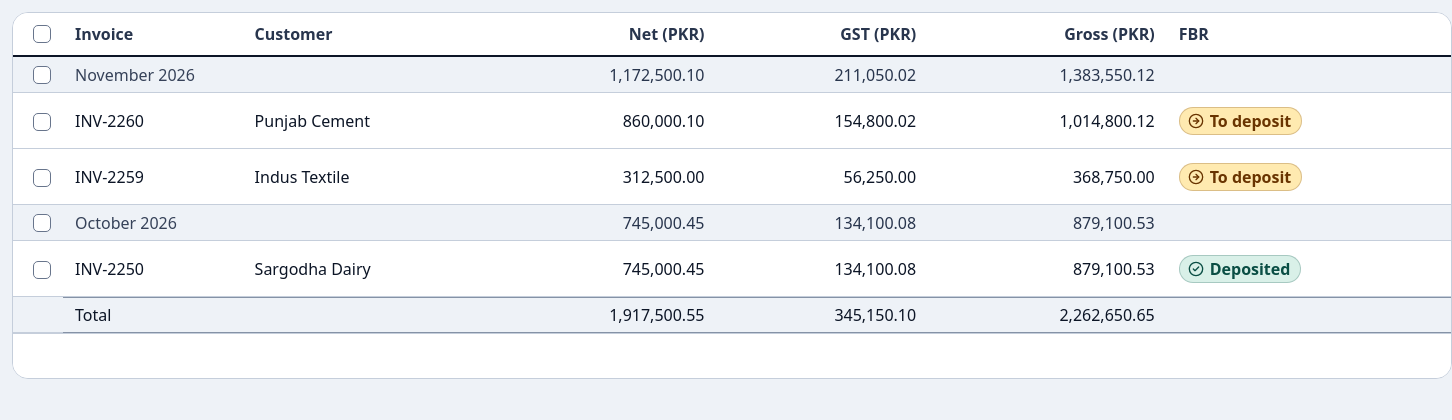
Test: DataTable: keyboard › a group checkbox ticks the whole group
The image size is (1452, 420).
Click the checkbox named "Select all in November 2026".
click(42, 74)  # box [33,66,51,84]
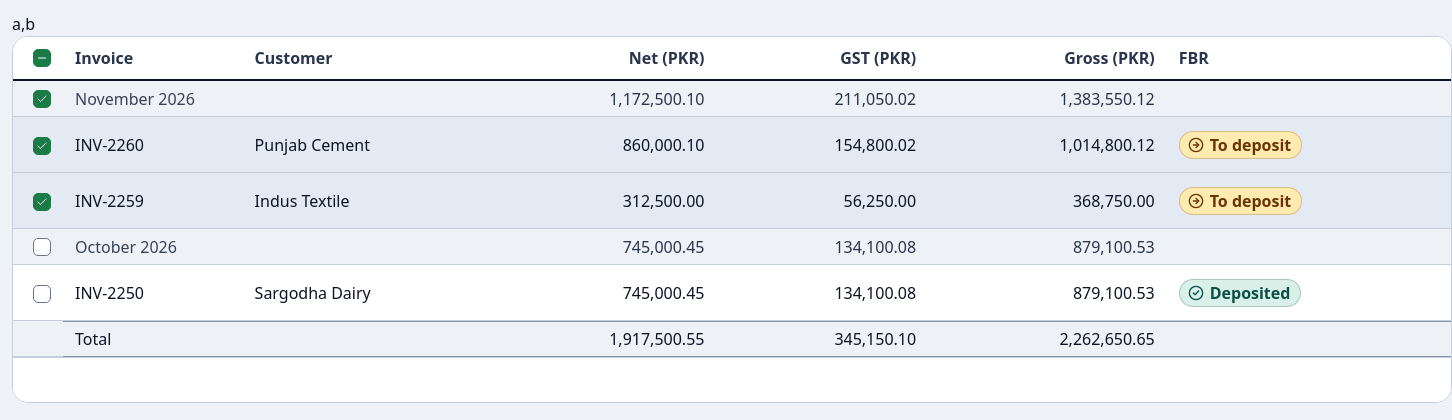
Expected: the text "a,b" is shown, [12,13,35,35]
